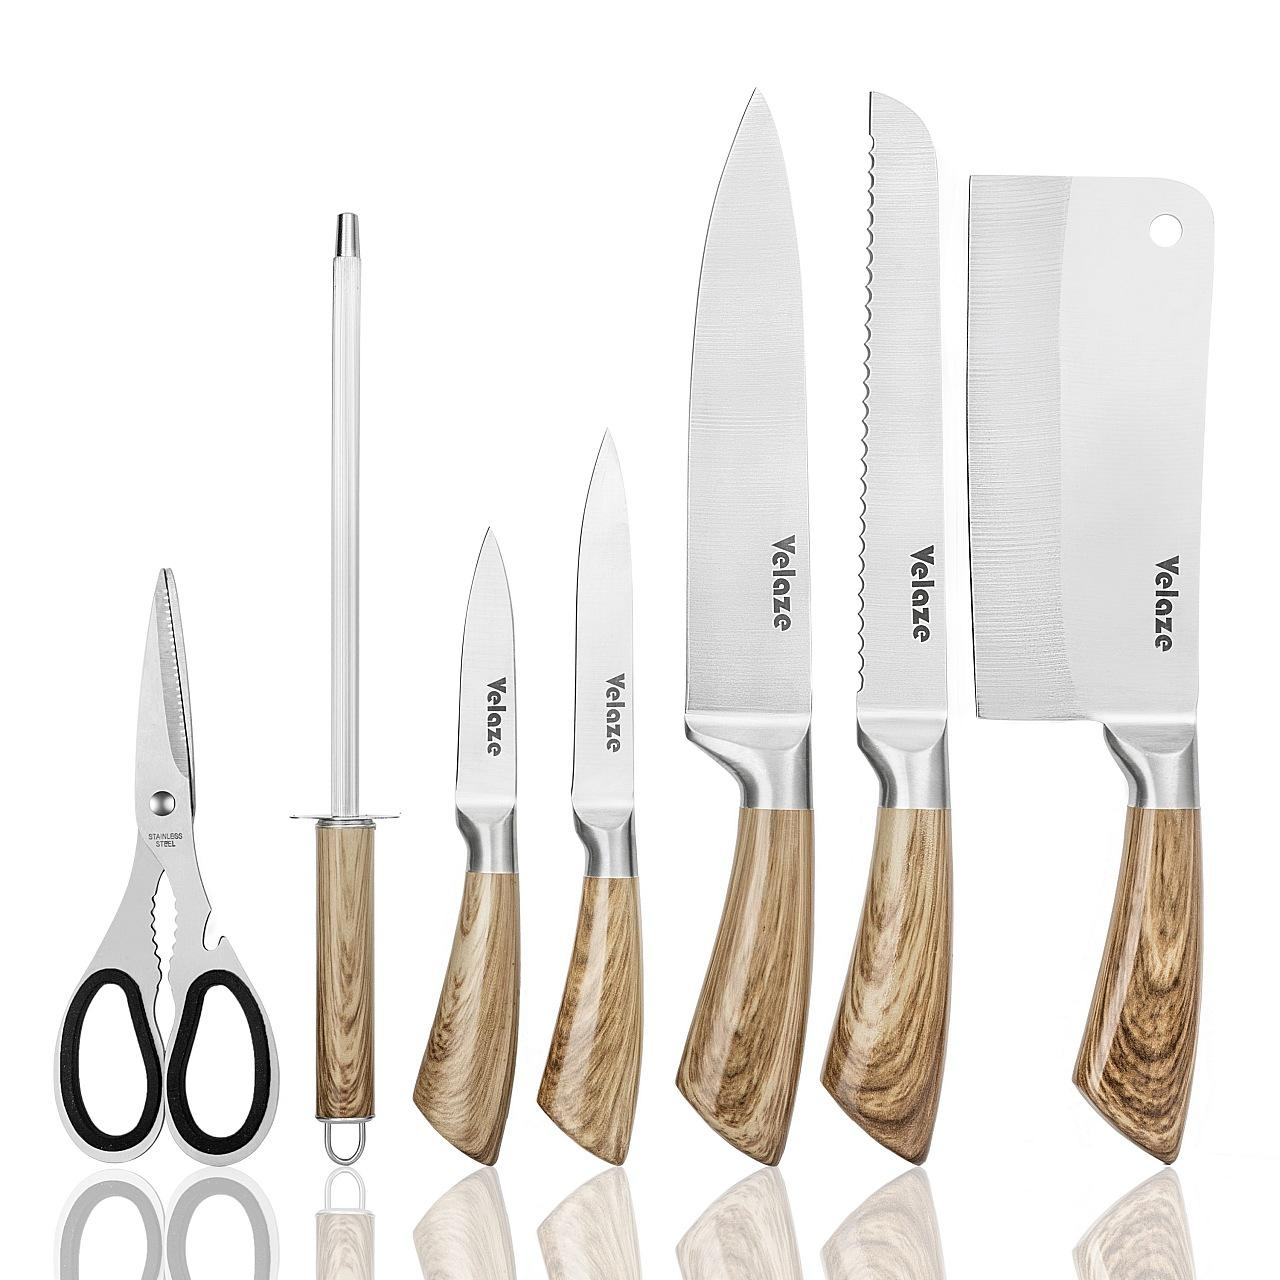knife: (411, 30, 1244, 1207)
